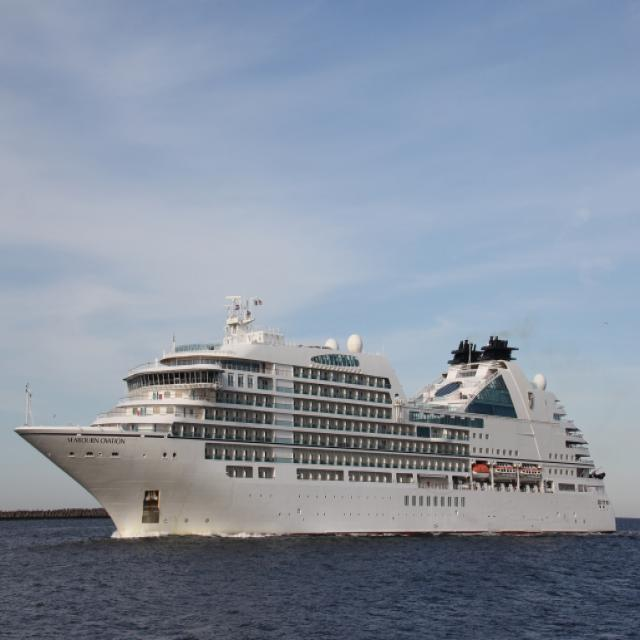cruises: (11, 292, 621, 542)
